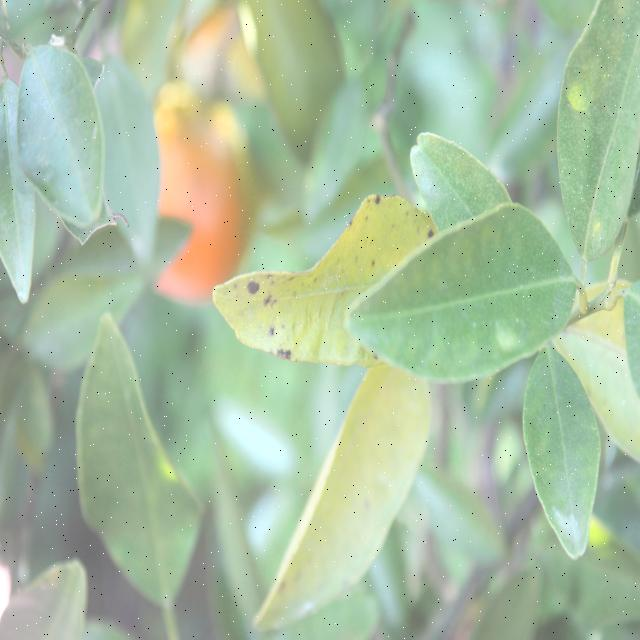blackspot: (202, 188, 453, 388)
